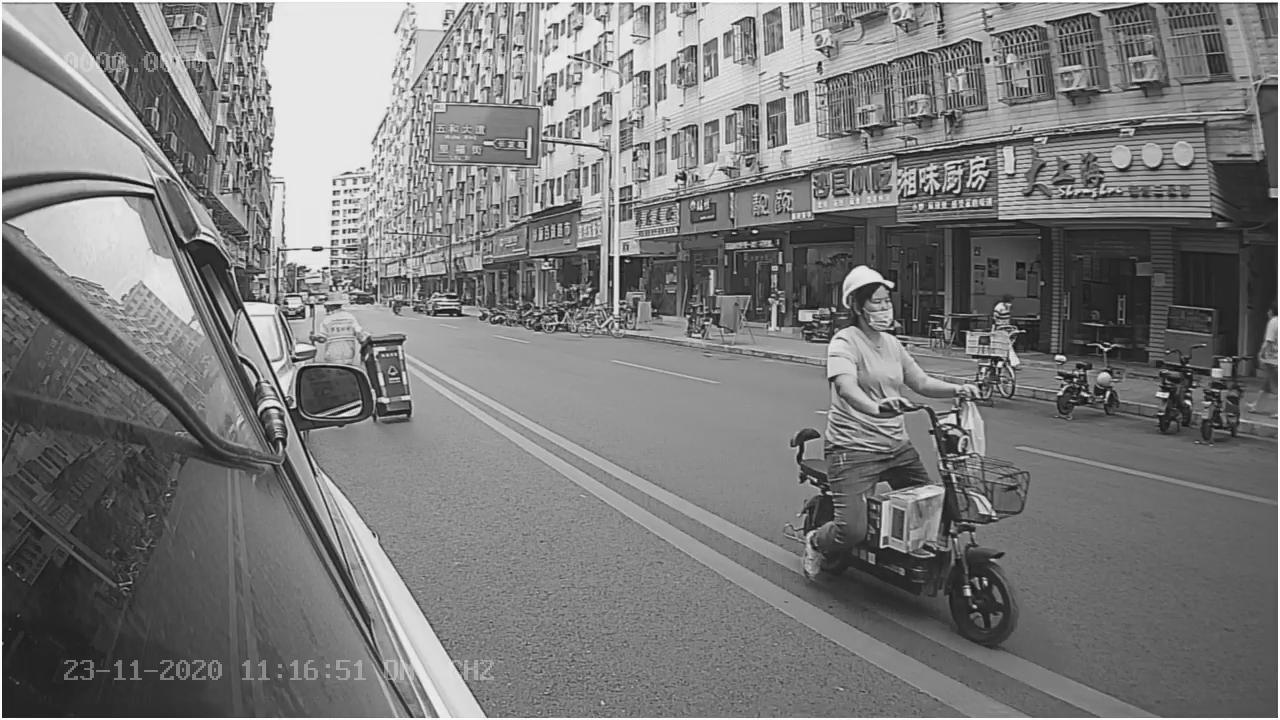person: (815, 259, 984, 399)
